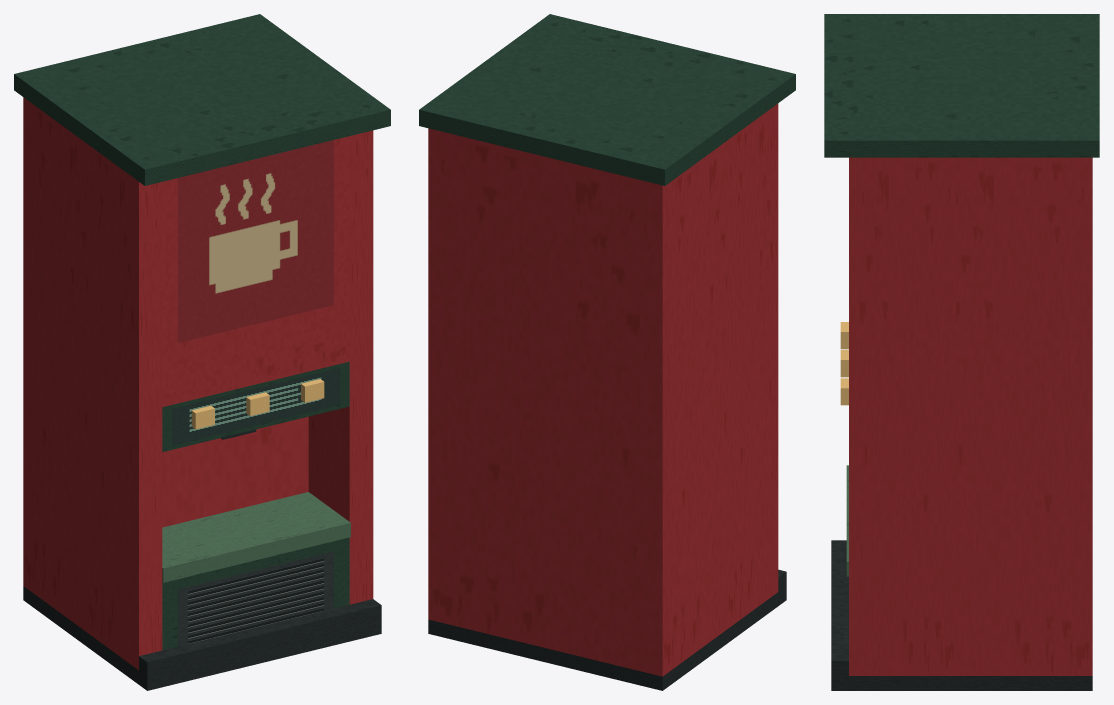
Rendered from CoffeeMachine.fbx.
3 renders of one model, left to right at view 1: azimuth 30°, elevation 25°; view 2: azimuth 150°, elevation 25°; view 3: azimuth 270°, elevation 25°, orthographic. The views are drawn at different scales.
Visible parts, largest first — view 1: CoffeeMachine; view 2: CoffeeMachine; view 3: CoffeeMachine.
Boxes of the visible parts, x1,y1,x2,y2 form: CoffeeMachine: (14, 14, 390, 690); CoffeeMachine: (419, 14, 795, 690); CoffeeMachine: (824, 14, 1099, 690).
Size of the model in its own units: 126 by 257 by 116.
